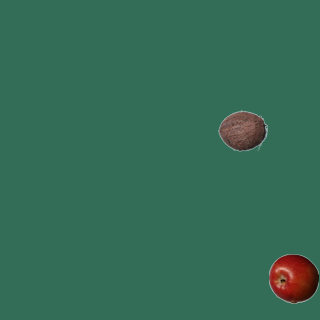Apple Braeburn: (268, 253, 318, 303)
Cocos: (217, 105, 267, 155)
